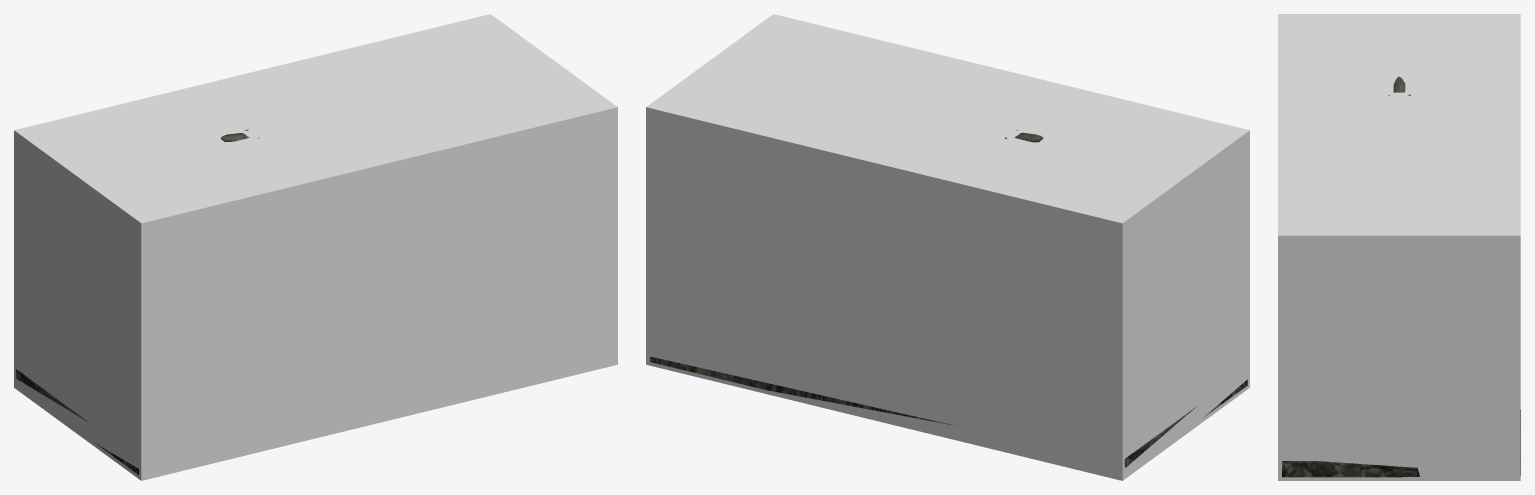
The model's file is sarcophagus_carved_v1.glb.
3 renders of one model, left to right at view 1: azimuth 30°, elevation 25°; view 2: azimuth 150°, elevation 25°; view 3: azimuth 270°, elevation 25°, orthographic. The views are drawn at different scales.
Parts seen in each view (by area): view 1: col_sarcophagus, sarcophagus; view 2: col_sarcophagus, sarcophagus; view 3: col_sarcophagus, sarcophagus.
Part boxes in pixels (box(x1,y1,x2,y2)): col_sarcophagus: box(14, 14, 617, 480); sarcophagus: box(16, 129, 258, 474); col_sarcophagus: box(646, 14, 1249, 480); sarcophagus: box(650, 130, 1247, 467); col_sarcophagus: box(1278, 14, 1520, 480); sarcophagus: box(1282, 76, 1520, 477).
Bounding box in the file's own units: 2.42 × 1.27 × 1.12.
Materials: 2 (2 with a texture image).
